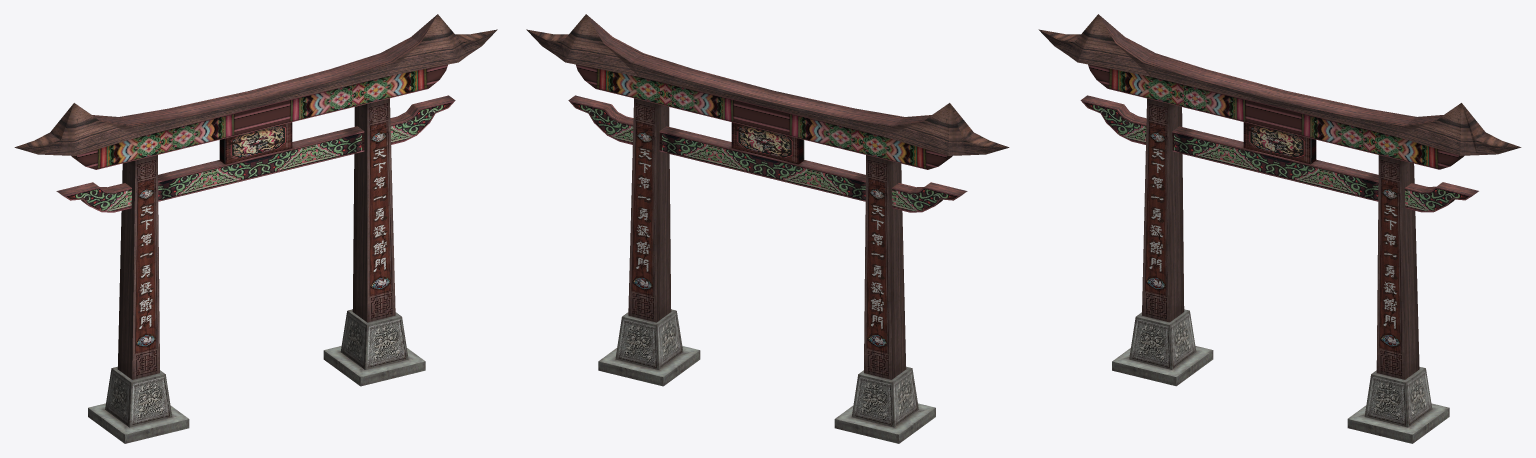
The model's file is a1-035-woodgate.fbx.
3 views of the same model, side by side, from view 1: azimuth 30°, elevation 25°; view 2: azimuth 150°, elevation 25°; view 3: azimuth 330°, elevation 25° (orthographic).
Visible parts, largest first — view 1: Sphere01; view 2: Sphere01; view 3: Sphere01.
Boxes of the visible parts, x1,y1,x2,y2 form: Sphere01: (14, 14, 497, 443); Sphere01: (526, 14, 1009, 443); Sphere01: (1038, 14, 1521, 443).
Bounding box in the file's own units: 20.57 × 13.63 × 2.72.
